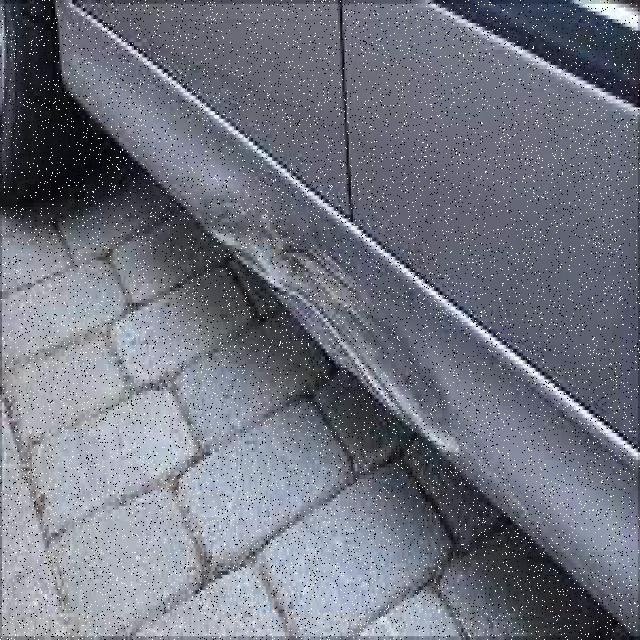RunningBoard-Dent: (182, 192, 412, 414)
